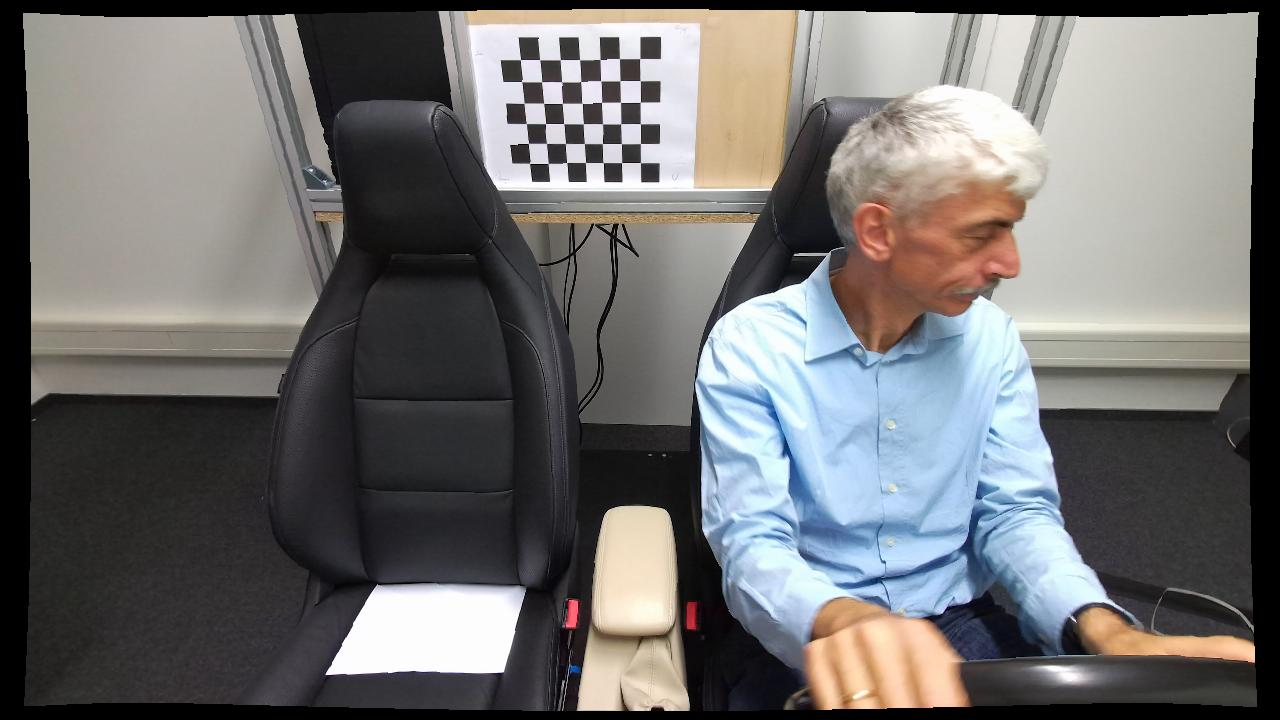Distracted: (687, 83, 1053, 710)
